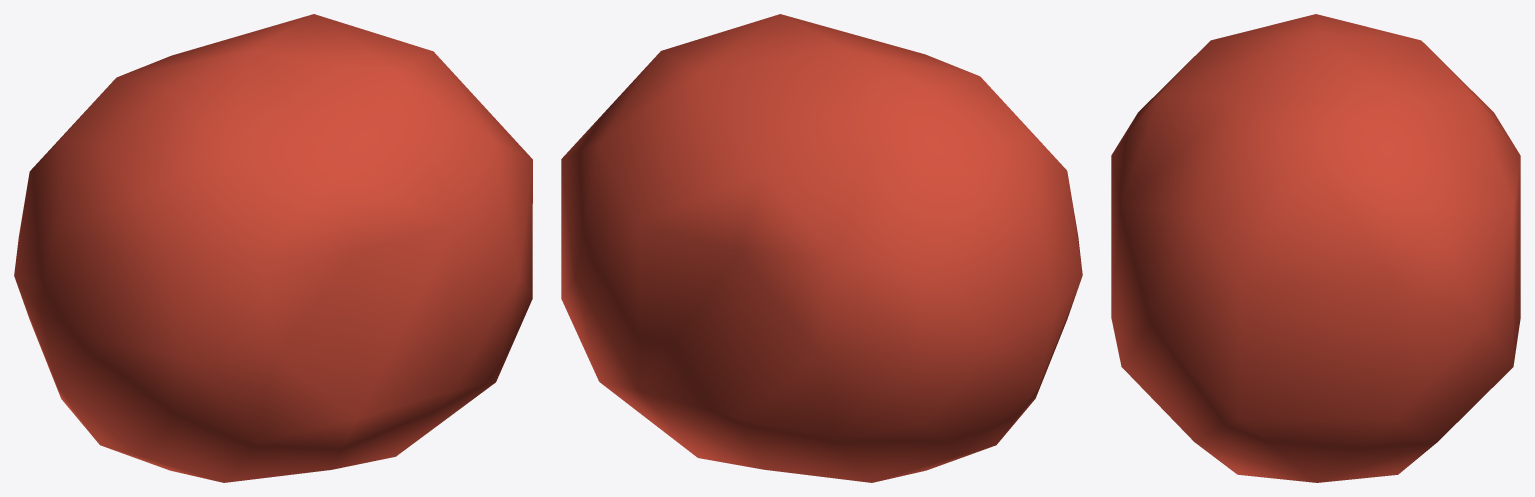
The model's file is waddledoo_mano_der.obj.
3 renders of one model, left to right at view 1: azimuth 30°, elevation 25°; view 2: azimuth 150°, elevation 25°; view 3: azimuth 270°, elevation 25°, orthographic. The views are drawn at different scales.
Bounding box in the file's own units: 0.3354 × 0.2982 × 0.2695.
